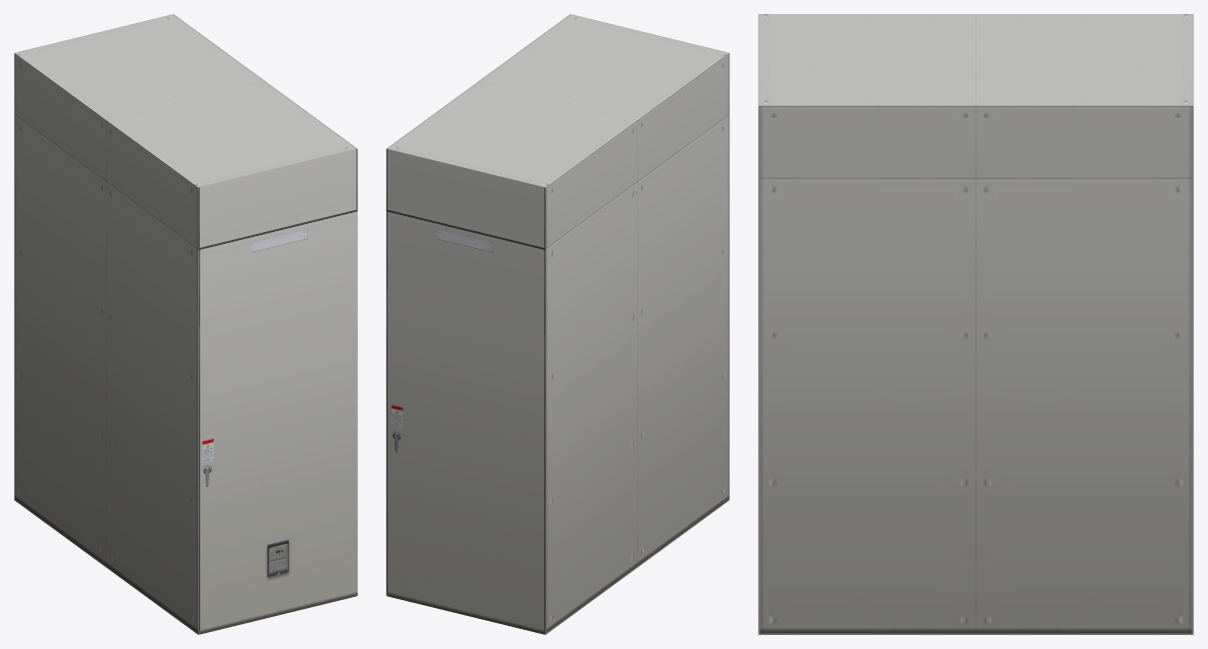
3 views of the same model, side by side, from view 1: azimuth 30°, elevation 25°; view 2: azimuth 150°, elevation 25°; view 3: azimuth 270°, elevation 25° (orthographic). The views are drawn at different scales.
Visible parts, largest first — view 1: LV-J3; view 2: LV-J3; view 3: LV-J3.
Part boxes in pixels (left/top/right/bottom): LV-J3: left=14, top=14, right=357, bottom=634; LV-J3: left=386, top=14, right=729, bottom=634; LV-J3: left=758, top=14, right=1193, bottom=634.
Bounding box in the file's own units: 1.1 × 2.95 × 2.2.
Materials: 1 (1 with a texture image).
